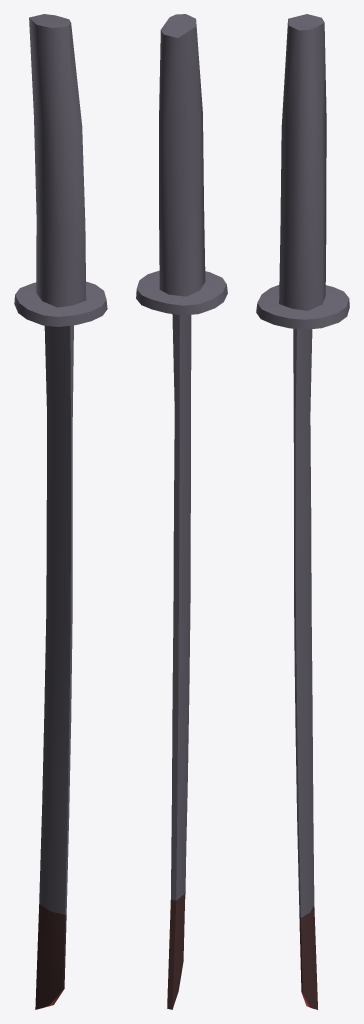
File: og_katana.glb
3 renders of one model, left to right at view 1: azimuth 30°, elevation 25°; view 2: azimuth 150°, elevation 25°; view 3: azimuth 330°, elevation 25°, orthographic. The views are drawn at different scales.
Size of the model in its own units: 0.0822 by 1 by 0.0805.
